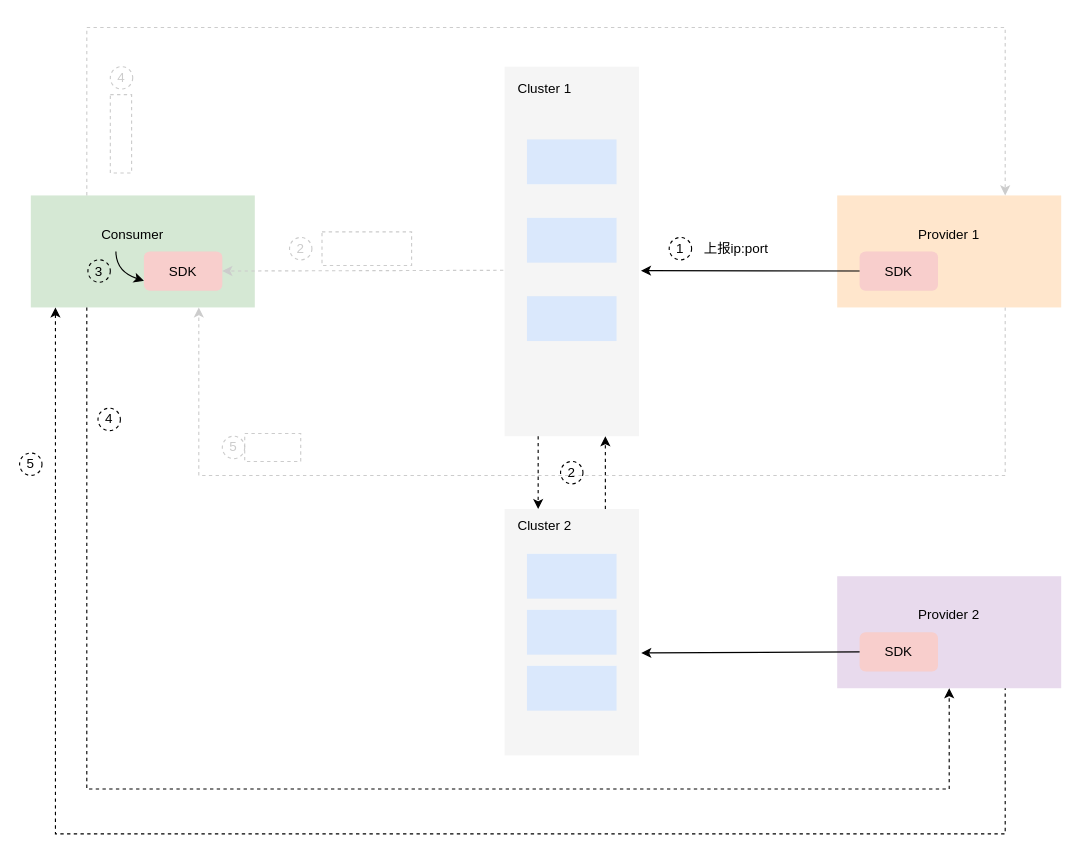
Image size: 1081x862. Some labels were removed from this diagram. Each missing label, with the centre of its shape:
"响应" goes at point 272,446.
"服务调用" goes at point 120,133.
"获取服务列表" goes at point 366,248.
